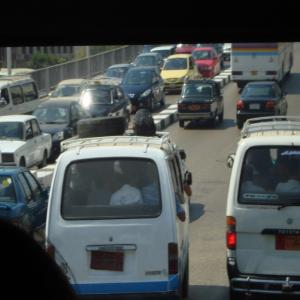Vehicle-registration-plate: (92, 251, 126, 272), (276, 230, 300, 252), (248, 102, 260, 112), (190, 106, 200, 111)
